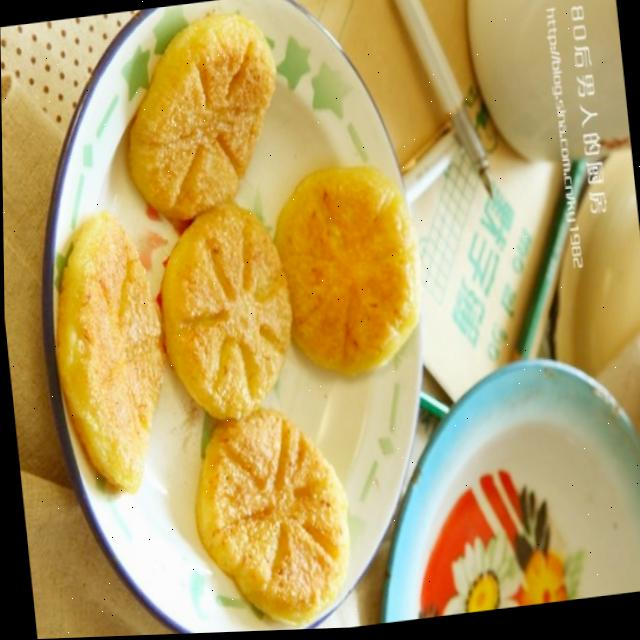炸货点心: (22, 0, 458, 639)
蛋糕甜品: (22, 0, 458, 639)
